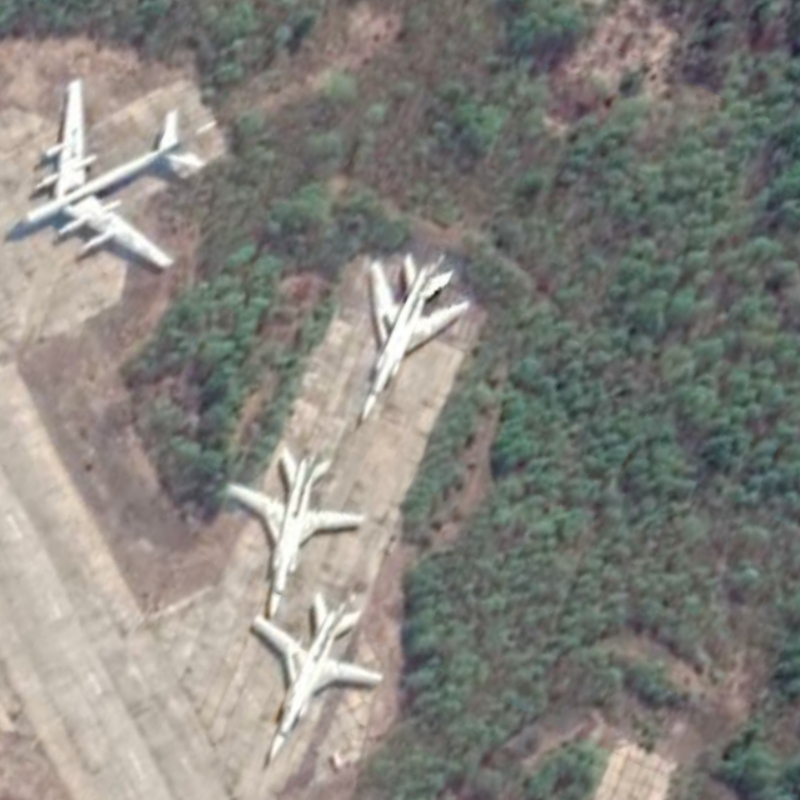A12: (223, 444, 368, 620), (246, 591, 389, 768), (356, 249, 472, 427)
A17: (8, 77, 209, 274)
